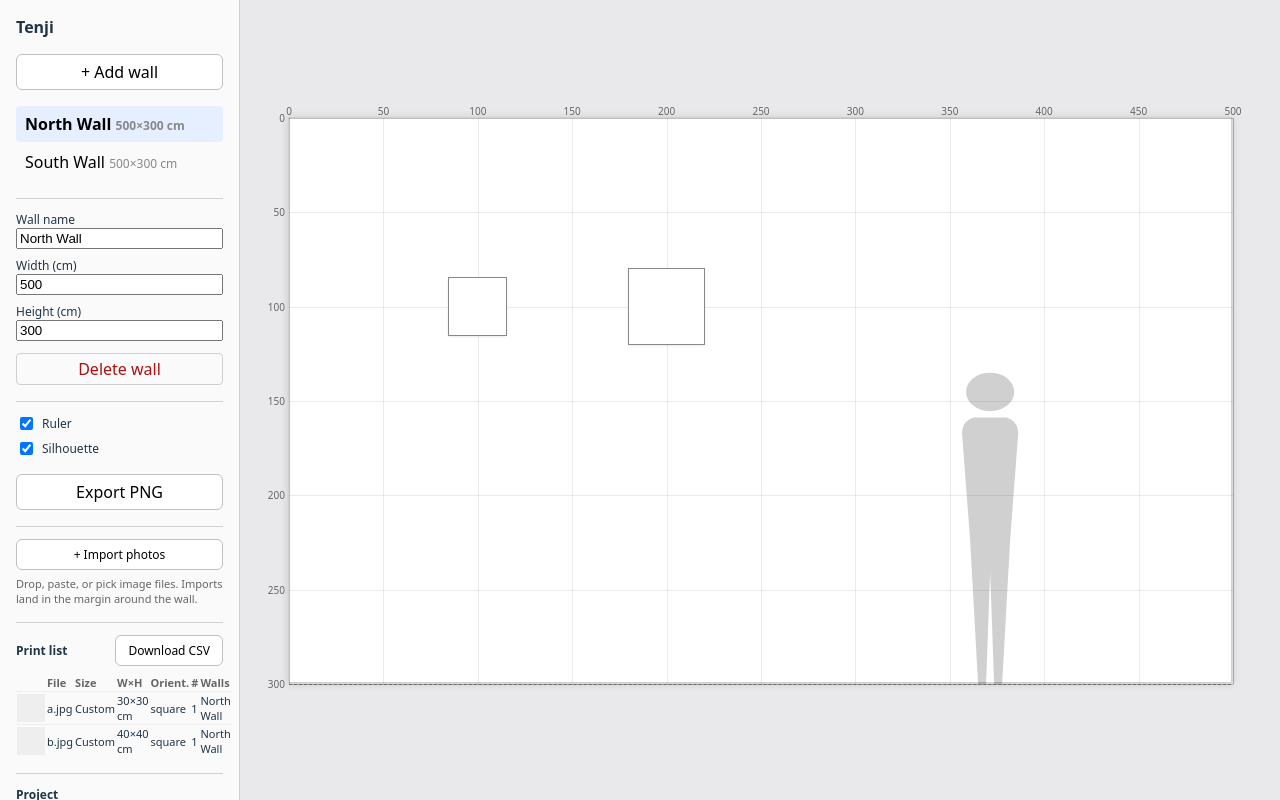
Test: App › copy/paste › right-click on empty stage shows only Paste; Paste is disabled when clipboard is empty
This screenshot has width=1280, height=800.
Right-click the element with test id "stage".
right_click(760, 400)  # box [240,0,1279,799]
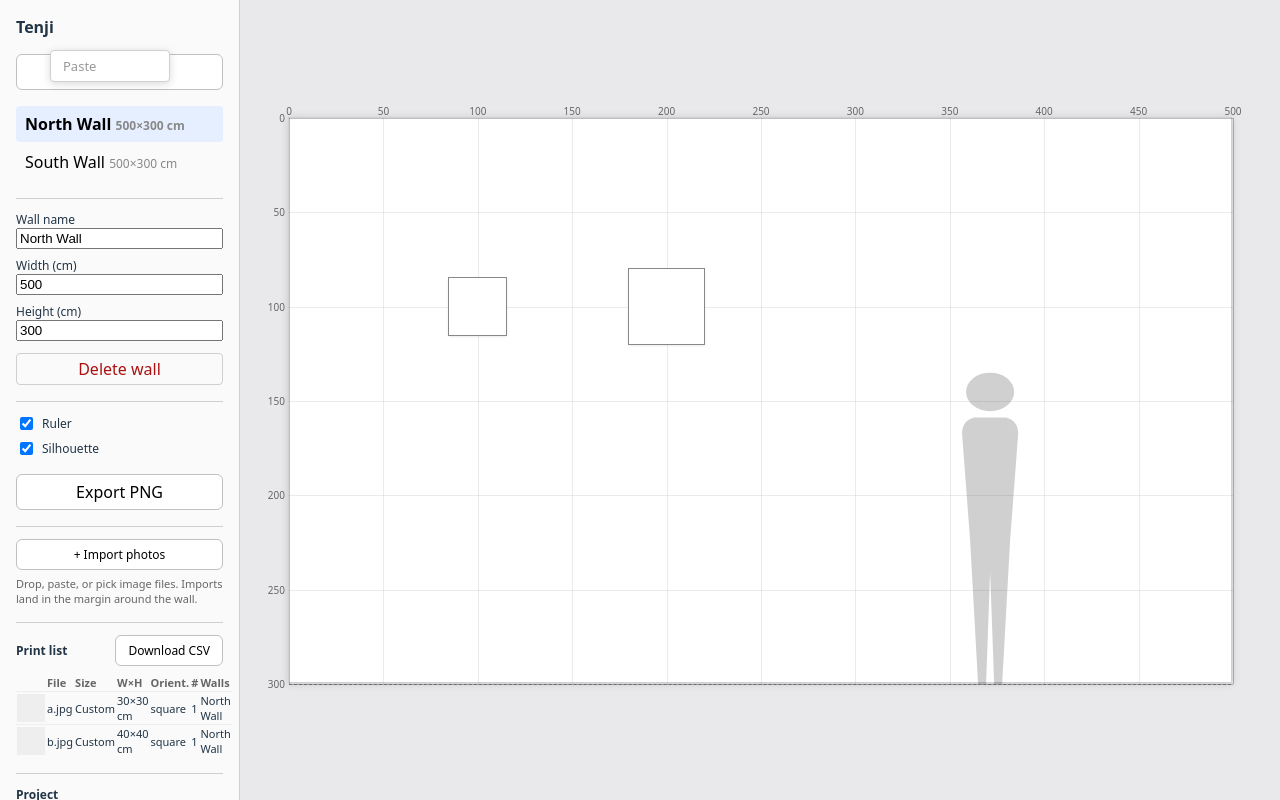
Expected: the button "Paste" is disabled, [51,51,169,81]
